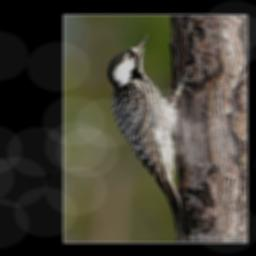Woodpecker: (107, 34, 203, 236)
